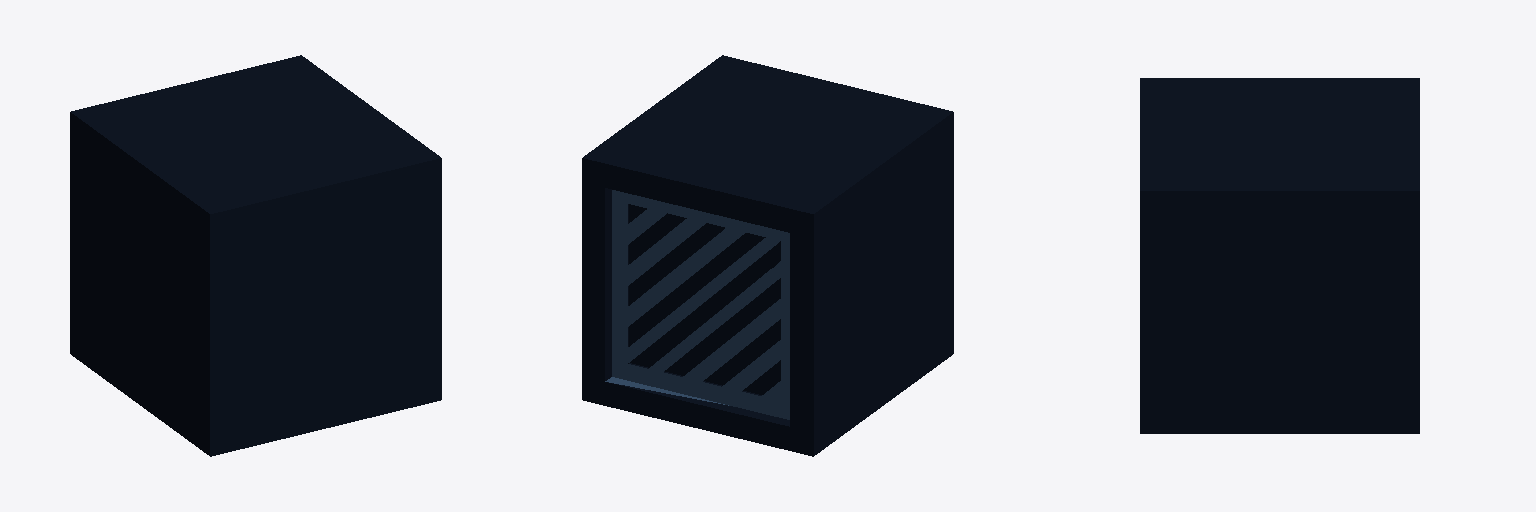
Rendered from 高台禁止.obj.
3 views of the same model, side by side, from view 1: azimuth 30°, elevation 25°; view 2: azimuth 150°, elevation 25°; view 3: azimuth 270°, elevation 25° (orthographic).
Parts seen in each view (by area): view 1: 高台; view 2: 高台; view 3: 高台.
Part boxes in pixels (x1,y1,x2,y2): 高台: (70, 55, 441, 456); 高台: (582, 55, 953, 456); 高台: (1140, 78, 1419, 433).
Size of the model in its own units: 1 by 1 by 1.05.